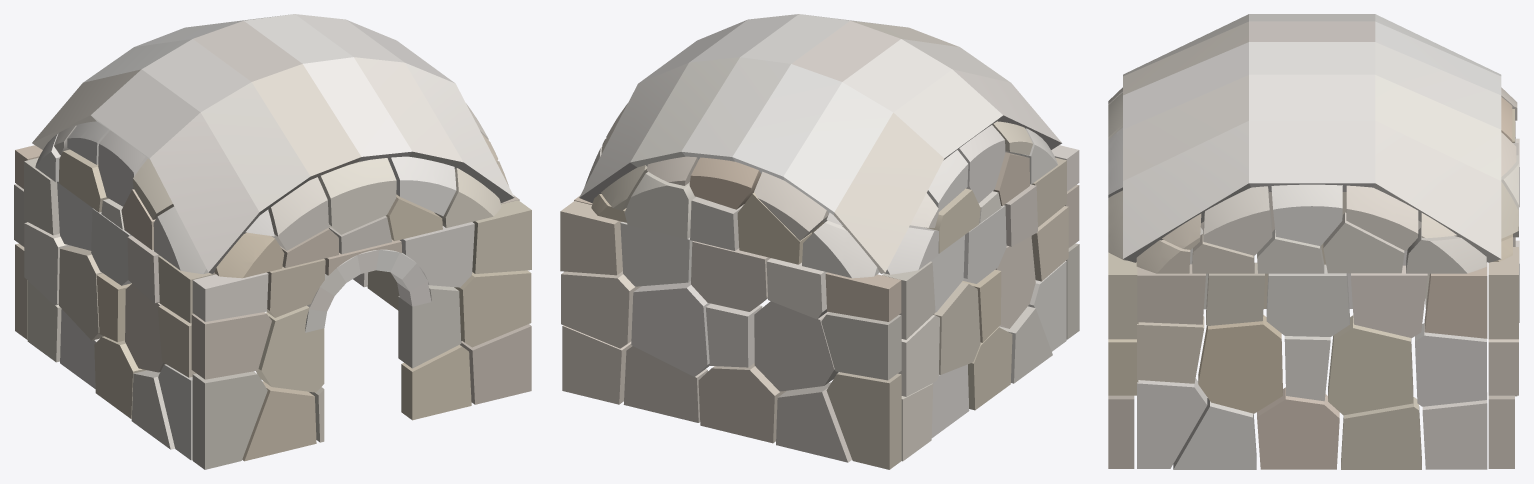
Rendered from frahan-castle-keep.glb.
3 views of the same model, side by side, from view 1: azimuth 30°, elevation 25°; view 2: azimuth 150°, elevation 25°; view 3: azimuth 270°, elevation 25° (orthographic). The views are drawn at different scales.
Visible parts, largest first — view 1: Pendentive_Dome/voussoir_0068_0otwwY, Pendentive_Dome/voussoir_0071_34amis, Pendentive_Dome/voussoir_0074_046OV2, Keep_WallFront_Portal/stone_0000_3br5LM, Pendentive_Dome/voussoir_0077_01zNZY, Pendentive_Dome/voussoir_0069_1$0jx3, Pendentive_Dome/voussoir_0080_2IkWd2, Keep_WallFront_Portal/stone_0008_3MQmjm, Pendentive_Dome/voussoir_0083_2ntCO4, Keep_WallFront_Portal/stone_0006_0Cmd_N, Keep_WallFront_Portal/stone_0005_00kiun, Tympanum_Infill/stone_0093_1r0Gc7 (+51 smaller); view 2: Pendentive_Dome/voussoir_0070_3zTZjd, Pendentive_Dome/voussoir_0073_1bwUtO, Pendentive_Dome/voussoir_0076_2pamsY, Keep_WallBack/stone_0022_2fPS4e, Keep_WallBack/stone_0014_2iVijj, Keep_WallBack/stone_0020_06DWq2, Pendentive_Dome/voussoir_0079_1IxGqw, Keep_WallBack/stone_0016_0MCv5G, Pendentive_Dome/voussoir_0069_1$0jx3, Pendentive_Dome/voussoir_0082_3NZG5t, Keep_WallBack/stone_0023_1vATTj, Keep_WallBack/stone_0019_2tgmGj (+53 smaller); view 3: Pendentive_Dome/voussoir_0085_2cwXPy, Pendentive_Dome/voussoir_0083_2ntCO4, Pendentive_Dome/voussoir_0084_0wHlDg, Keep_WallRight/stone_0050_0oDSlb, Keep_WallRight/stone_0052_3f2tCS, Pendentive_Dome/voussoir_0082_3NZG5t, Pendentive_Dome/voussoir_0080_2IkWd2, Pendentive_Dome/voussoir_0081_1WaUec, Keep_WallRight/stone_0046_0rYzx0, Keep_WallRight/stone_0056_0GorlY, Keep_WallRight/stone_0044_1CfpMF, Keep_WallRight/stone_0053_35QTbs (+41 smaller).
Part boxes in pixels (bbox=[...]): Pendentive_Dome/voussoir_0068_0otwwY: bbox=[149, 112, 259, 273]; Pendentive_Dome/voussoir_0071_34amis: bbox=[201, 82, 310, 214]; Pendentive_Dome/voussoir_0074_046OV2: bbox=[252, 64, 361, 180]; Keep_WallFront_Portal/stone_0000_3br5LM: bbox=[192, 371, 267, 469]; Pendentive_Dome/voussoir_0077_01zNZY: bbox=[303, 57, 412, 161]; Pendentive_Dome/voussoir_0069_1$0jx3: bbox=[91, 69, 200, 159]; Pendentive_Dome/voussoir_0080_2IkWd2: bbox=[354, 57, 463, 168]; Keep_WallFront_Portal/stone_0008_3MQmjm: bbox=[454, 270, 531, 347]; Pendentive_Dome/voussoir_0083_2ntCO4: bbox=[405, 63, 514, 202]; Keep_WallFront_Portal/stone_0006_0Cmd_N: bbox=[256, 305, 324, 392]; Keep_WallFront_Portal/stone_0005_00kiun: bbox=[191, 312, 271, 379]; Tympanum_Infill/stone_0093_1r0Gc7: bbox=[319, 158, 396, 234]; Pendentive_Dome/voussoir_0070_3zTZjd: bbox=[834, 112, 944, 273]; Pendentive_Dome/voussoir_0073_1bwUtO: bbox=[783, 82, 892, 215]; Pendentive_Dome/voussoir_0076_2pamsY: bbox=[732, 64, 841, 180]; Keep_WallBack/stone_0022_2fPS4e: bbox=[631, 281, 710, 376]; Keep_WallBack/stone_0014_2iVijj: bbox=[826, 372, 901, 469]; Keep_WallBack/stone_0020_06DWq2: bbox=[754, 301, 838, 391]; Pendentive_Dome/voussoir_0079_1IxGqw: bbox=[681, 57, 790, 161]; Keep_WallBack/stone_0016_0MCv5G: bbox=[698, 363, 786, 443]; Pendentive_Dome/voussoir_0069_1$0jx3: bbox=[893, 69, 1003, 160]; Pendentive_Dome/voussoir_0082_3NZG5t: bbox=[630, 57, 739, 167]; Keep_WallBack/stone_0023_1vATTj: bbox=[561, 271, 640, 348]; Keep_WallBack/stone_0019_2tgmGj: bbox=[821, 312, 901, 380]; Pendentive_Dome/voussoir_0085_2cwXPy: bbox=[1373, 121, 1501, 262]; Pendentive_Dome/voussoir_0083_2ntCO4: bbox=[1123, 121, 1250, 262]; Pendentive_Dome/voussoir_0084_0wHlDg: bbox=[1249, 120, 1375, 191]; Keep_WallRight/stone_0050_0oDSlb: bbox=[1198, 315, 1282, 413]; Keep_WallRight/stone_0052_3f2tCS: bbox=[1328, 315, 1413, 415]; Pendentive_Dome/voussoir_0082_3NZG5t: bbox=[1375, 75, 1501, 180]; Pendentive_Dome/voussoir_0080_2IkWd2: bbox=[1123, 75, 1248, 180]; Pendentive_Dome/voussoir_0081_1WaUec: bbox=[1249, 74, 1375, 120]; Keep_WallRight/stone_0046_0rYzx0: bbox=[1257, 387, 1339, 469]; Keep_WallRight/stone_0056_0GorlY: bbox=[1266, 264, 1349, 336]; Keep_WallRight/stone_0044_1CfpMF: bbox=[1137, 378, 1207, 468]; Keep_WallRight/stone_0053_35QTbs: bbox=[1415, 323, 1486, 406].
Size of the model in its own units: 6.05 by 5.55 by 6.05.
